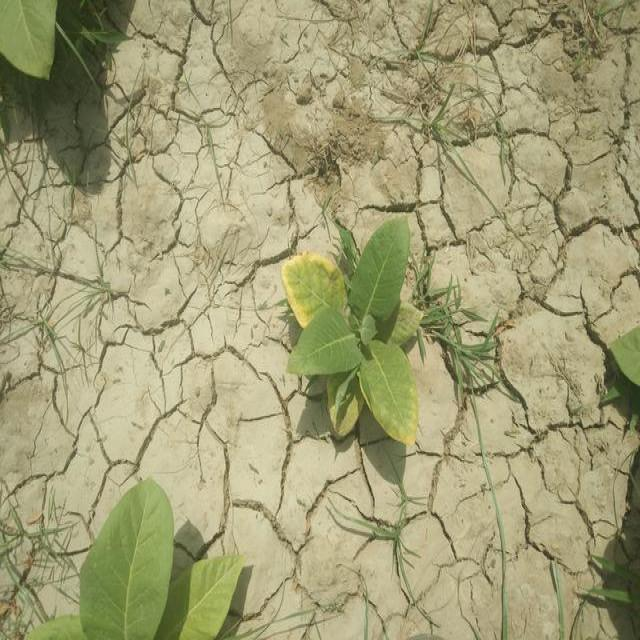crop: (290, 220, 428, 453), (70, 496, 238, 640), (0, 0, 62, 79), (608, 323, 640, 393)
